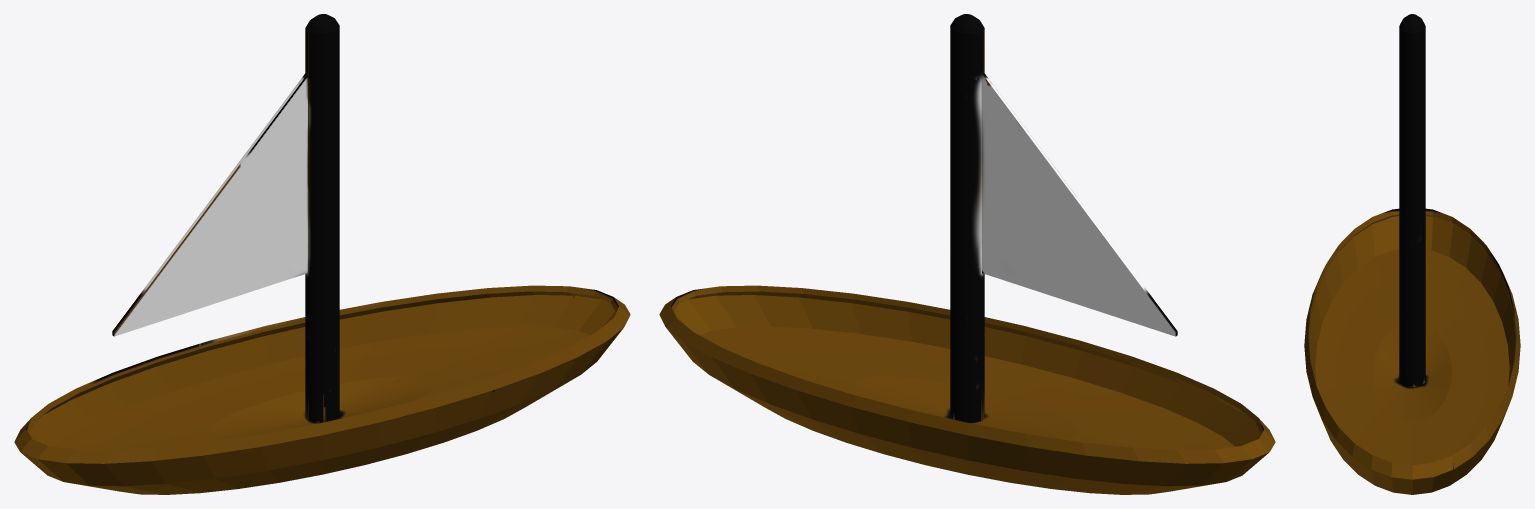
The model's file is Boat.glb.
The picture shows the model from 3 angles, left to right: view 1: azimuth 30°, elevation 25°; view 2: azimuth 150°, elevation 25°; view 3: azimuth 270°, elevation 25°; orthographic projection. The views are drawn at different scales.
Visible parts, largest first — view 1: Circle; view 2: Circle; view 3: Circle.
Boxes of the visible parts, x1=… form: Circle: x1=14, y1=14, x2=630, y2=494; Circle: x1=659, y1=14, x2=1275, y2=494; Circle: x1=1304, y1=14, x2=1520, y2=494.
Size of the model in its own units: 1.11 by 0.7744 by 0.3779.
1 material, 1 textured.
